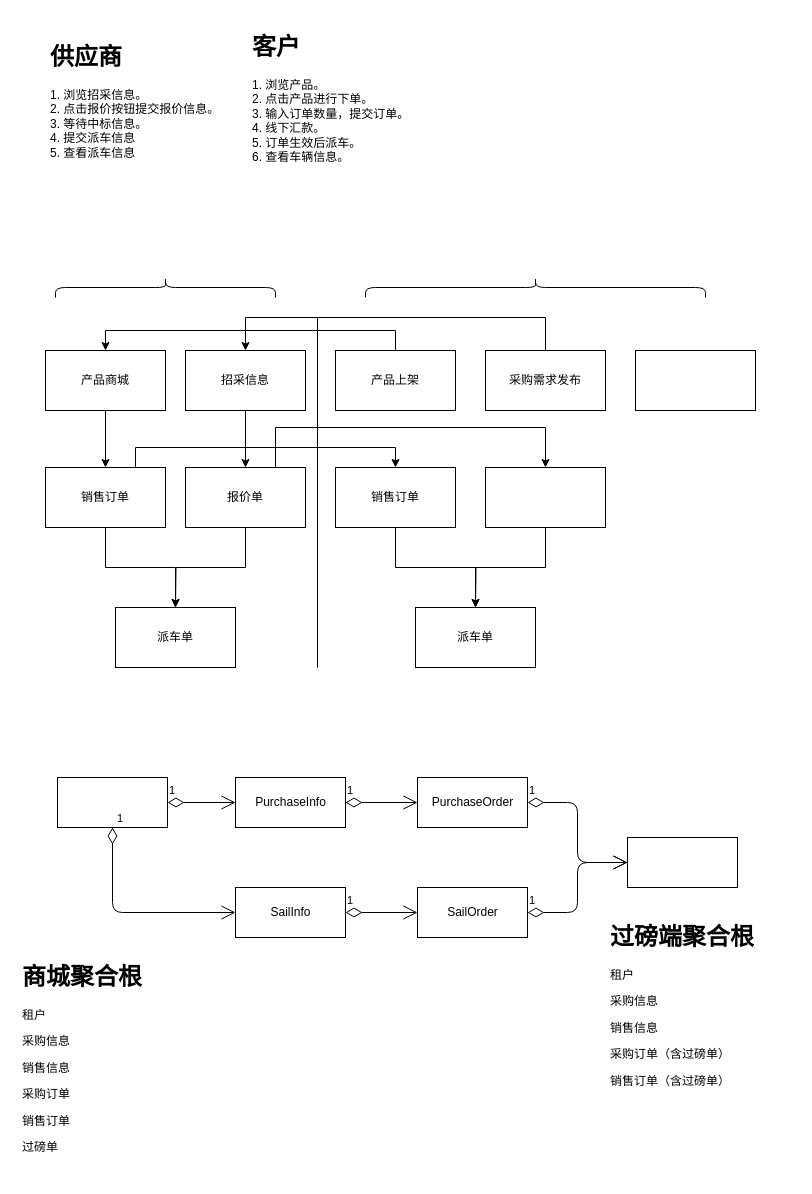
Image size: 812x1194. Some labels were removed from this diagram. The shapes that lost their labels are listed below. From the top down, each one's centre as x and y in pixels, then its label:
At (165,287): "微信".
At (535,287): "钉钉".
At (695,380): "产品管理".
At (545,497): "采购订单".
At (112,802): "Tenant".
At (682,862): "weigh".
